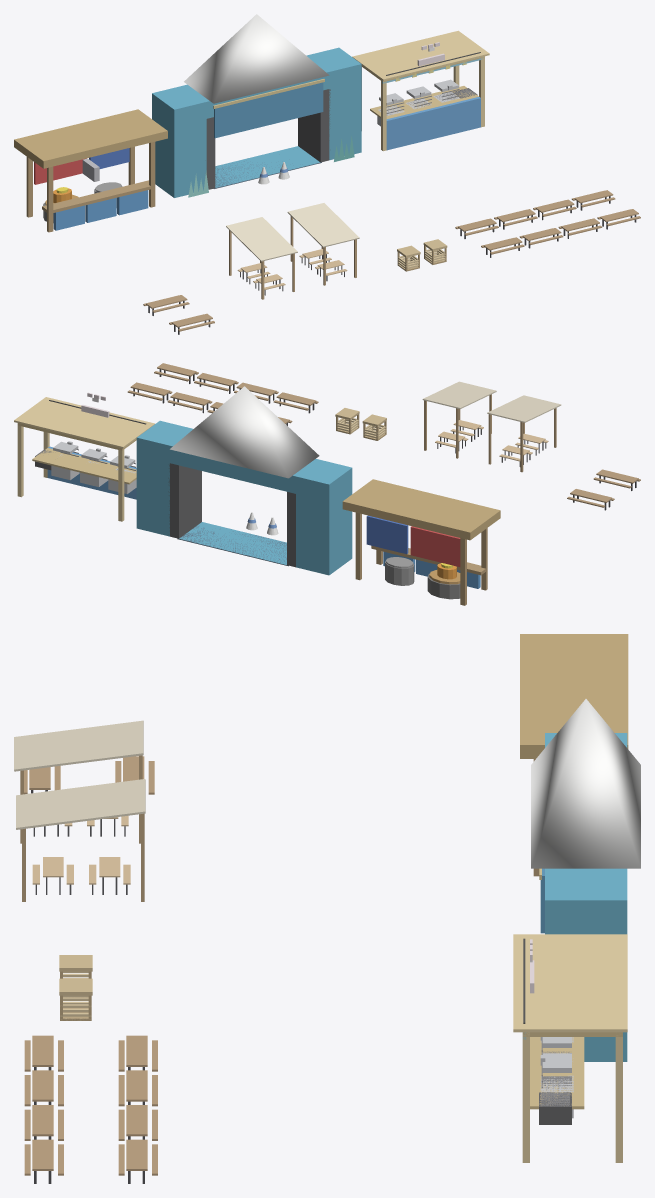
Rendered from dongmun_entrance.glb.
3 views of the same model, one above another, from view 1: azimuth 30°, elevation 25°; view 2: azimuth 150°, elevation 25°; view 3: azimuth 270°, elevation 25° (orthographic). The views are drawn at different scales.
Parts seen in each view (by area): view 1: Geom3D (×18); view 2: Geom3D (×21); view 3: Geom3D (×10).
Part boxes in pixels (left/top/right/bottom): Geom3D (×18): left=14, top=14, right=489, bottom=261; Geom3D (×21): left=14, top=381, right=561, bottom=605; Geom3D (×10): left=14, top=634, right=640, bottom=1162.
Bounding box in the file's own units: 35.04 × 11.14 × 22.51.
